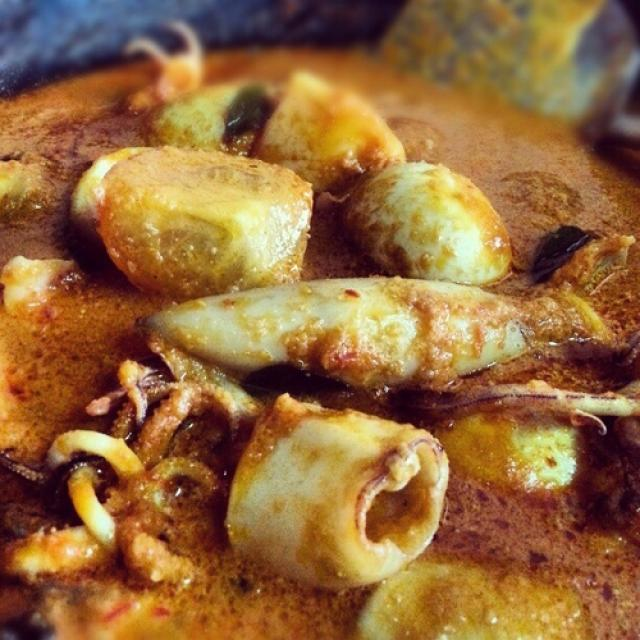熟制海鲜: (1, 23, 635, 634)
